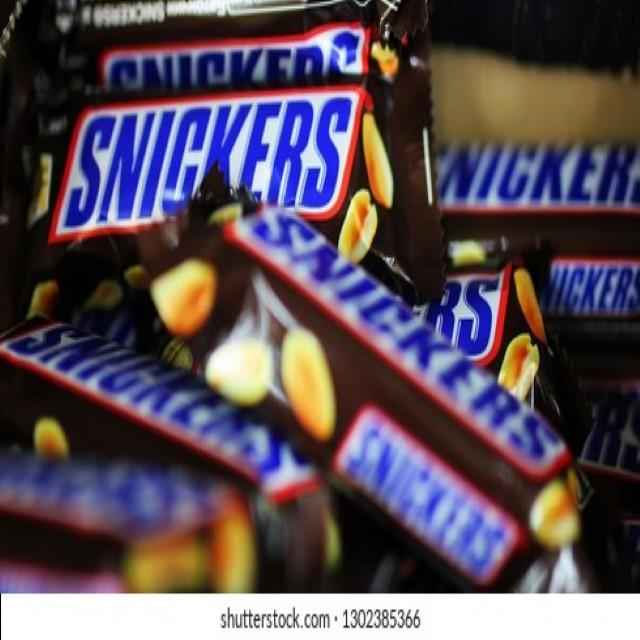snickers_chocolate: (153, 208, 597, 533), (0, 300, 350, 515), (28, 92, 413, 247), (47, 8, 422, 92), (428, 142, 627, 230), (532, 237, 640, 347)
